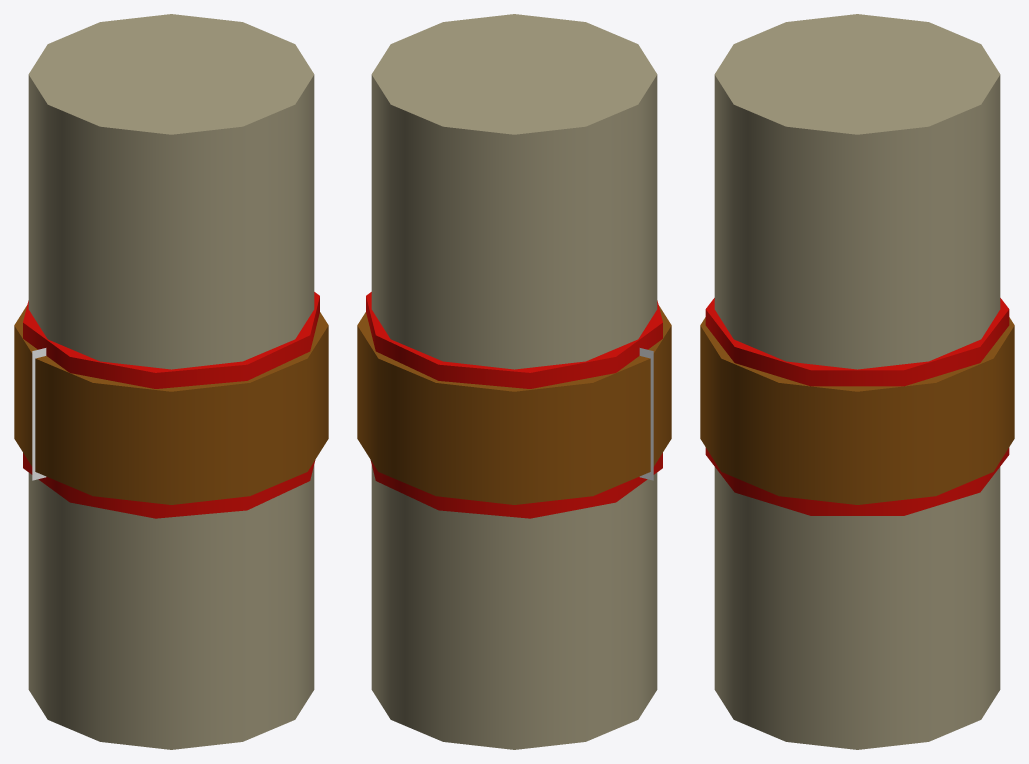
File: prop_ceramic_fuse_380v.obj
3 renders of one model, left to right at view 1: azimuth 30°, elevation 25°; view 2: azimuth 150°, elevation 25°; view 3: azimuth 270°, elevation 25°, orthographic.
Visible parts, largest first — view 1: prop_ceramic_fuse_380v_DA_0000, prop_ceramic_fuse_380v_DA_0001, prop_ceramic_fuse_380v_DA_0005, prop_ceramic_fuse_380v_DA_0006; view 2: prop_ceramic_fuse_380v_DA_0000, prop_ceramic_fuse_380v_DA_0001, prop_ceramic_fuse_380v_DA_0005, prop_ceramic_fuse_380v_DA_0006; view 3: prop_ceramic_fuse_380v_DA_0000, prop_ceramic_fuse_380v_DA_0001, prop_ceramic_fuse_380v_DA_0005.
Part boxes in pixels (bbox=[...]): prop_ceramic_fuse_380v_DA_0000: bbox=[28, 14, 314, 749]; prop_ceramic_fuse_380v_DA_0001: bbox=[14, 305, 328, 504]; prop_ceramic_fuse_380v_DA_0005: bbox=[23, 292, 319, 518]; prop_ceramic_fuse_380v_DA_0006: bbox=[32, 348, 46, 480]; prop_ceramic_fuse_380v_DA_0000: bbox=[371, 14, 657, 749]; prop_ceramic_fuse_380v_DA_0001: bbox=[357, 305, 671, 504]; prop_ceramic_fuse_380v_DA_0005: bbox=[366, 292, 662, 518]; prop_ceramic_fuse_380v_DA_0006: bbox=[639, 348, 653, 480]; prop_ceramic_fuse_380v_DA_0000: bbox=[714, 14, 1000, 749]; prop_ceramic_fuse_380v_DA_0001: bbox=[700, 317, 1014, 504]; prop_ceramic_fuse_380v_DA_0005: bbox=[705, 298, 1009, 515].
Size of the model in its own units: 0.18 by 0.38 by 0.176.
